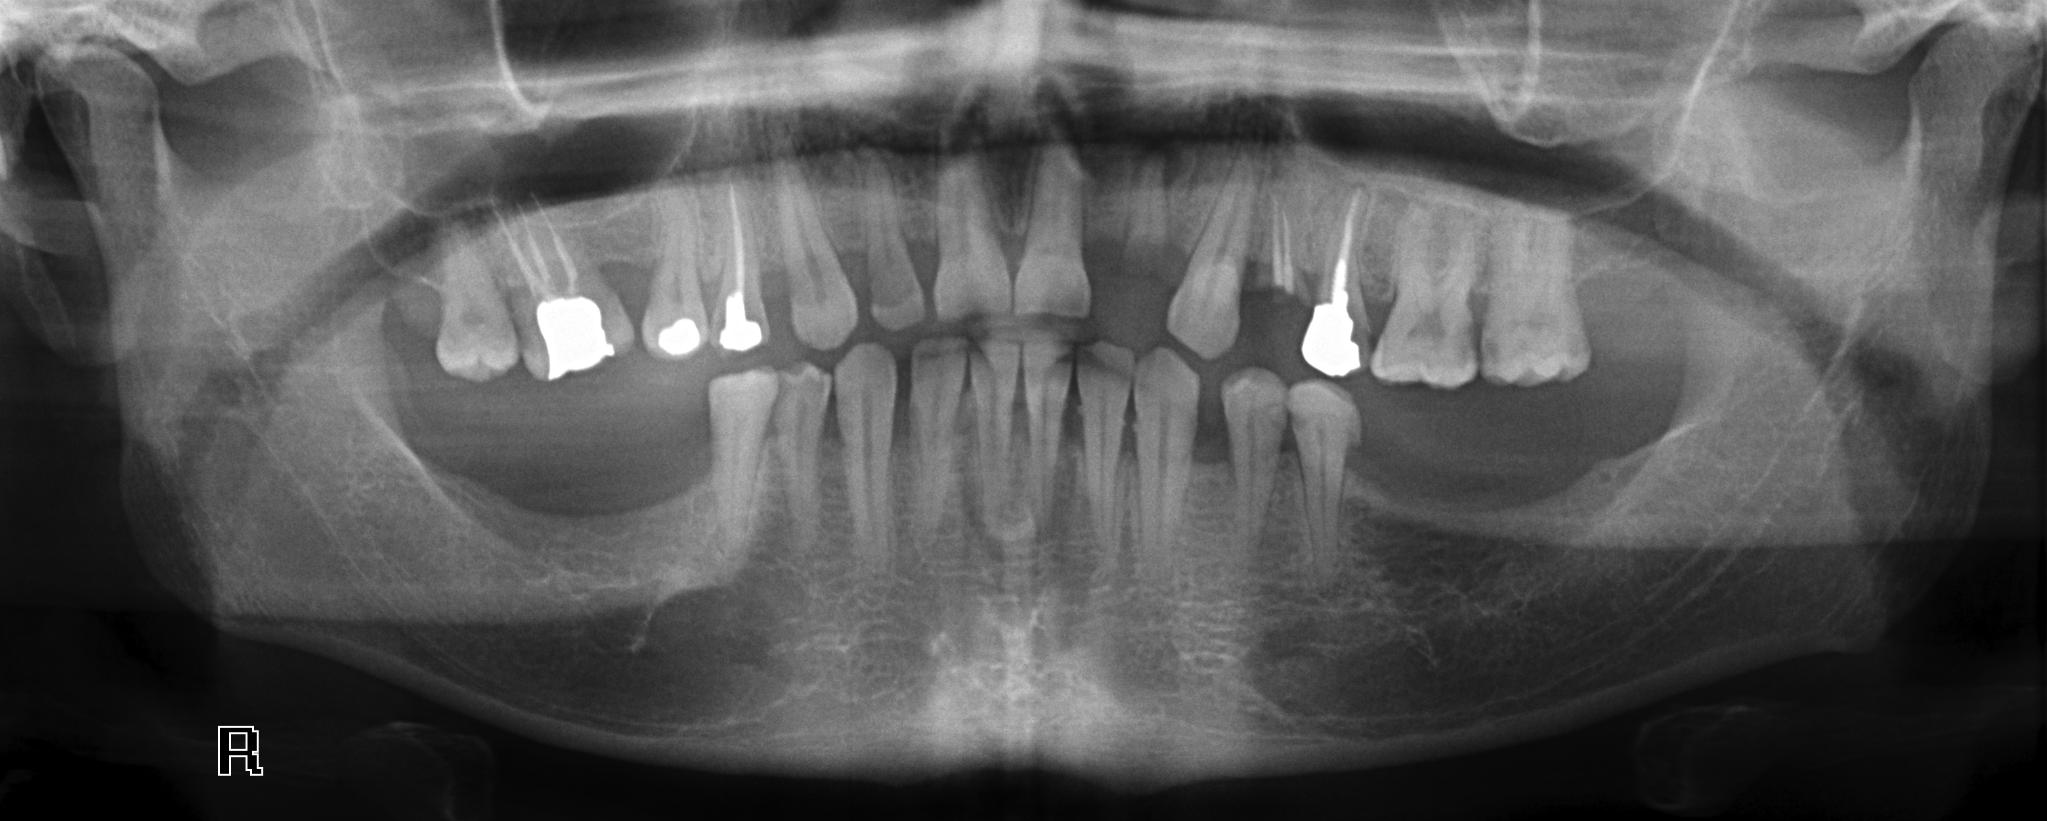Fillings: (638, 187, 711, 360), (222, 724, 257, 778)
Implant: (497, 194, 636, 384), (1298, 180, 1377, 384), (708, 183, 777, 362)
